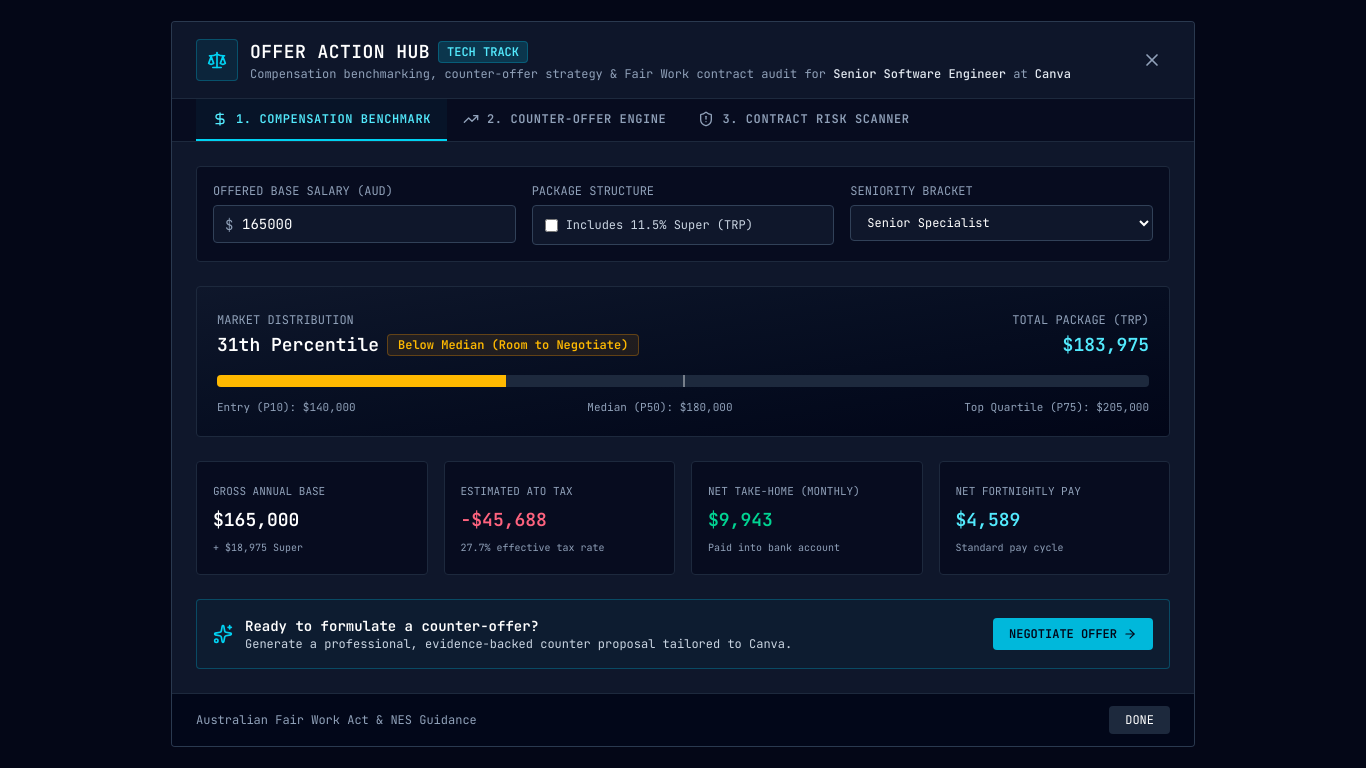
it: OfferActionHubModal Component › allows switching to Contract Risk Scanner and scanning contract clauses
Click tab: 3. CONTRACT RISK SCANNER
What coordinates should you click on to do the following:
click the button "3. CONTRACT RISK SCANNER"
I would click on:
 (804, 120)
Its box is [682,99,926,141].
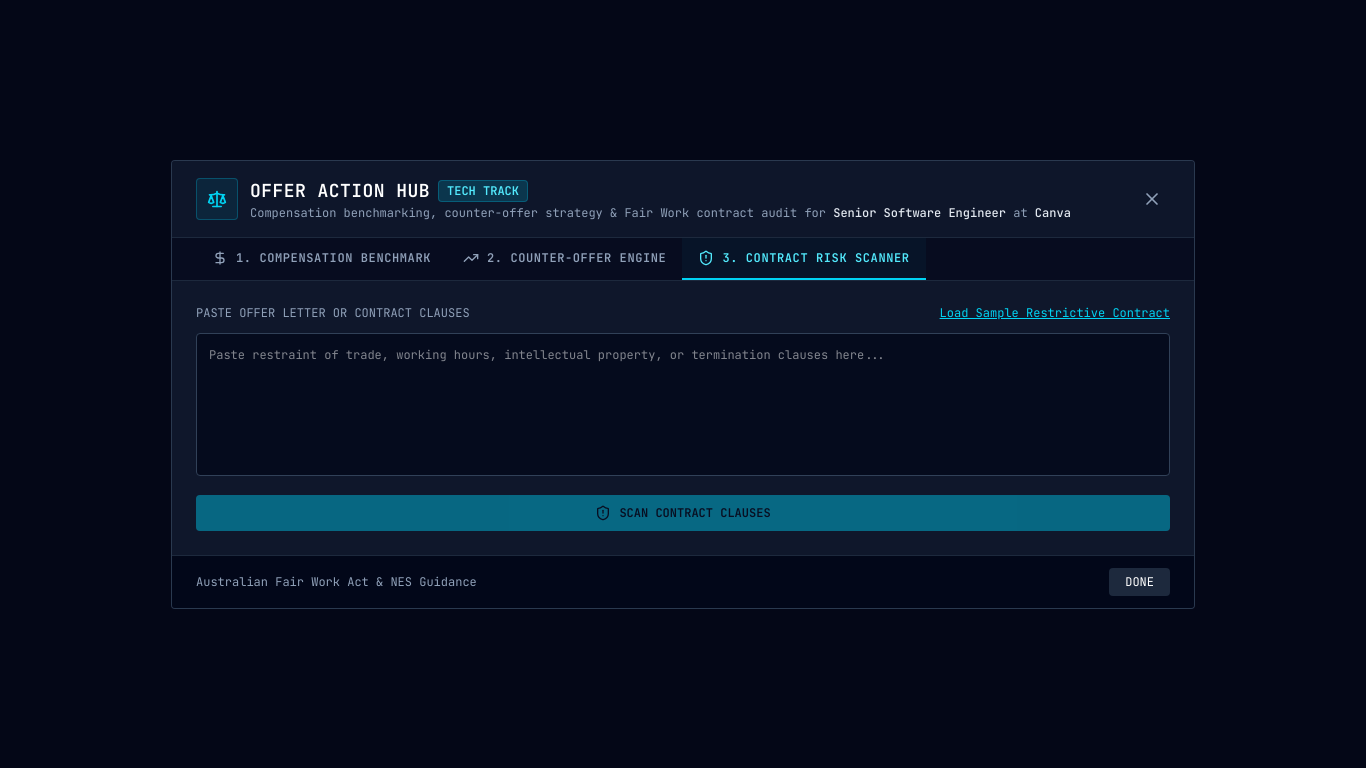
Expected: the button "Load Sample Restrictive Contract" is shown
Load sample contract text (which automatically triggers scan)
What coordinates should you click on to do the following:
click the button "Load Sample Restrictive Contract"
I would click on:
 (1055, 312)
Its box is [940,304,1170,320].
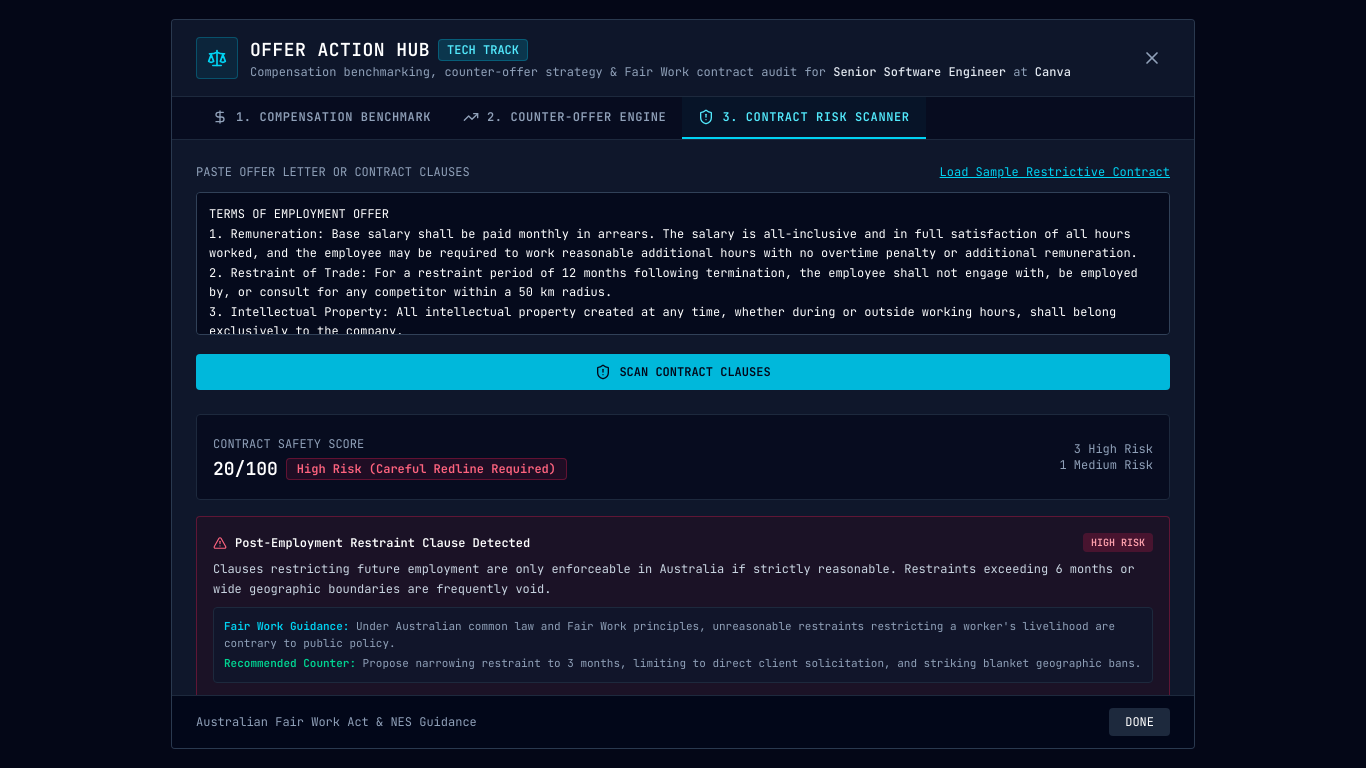
Expected: the text "Contract Safety Score" is shown, [213,436,364,452]
Expected: the text "Post-Employment Restraint Clause Detected" is shown, [213,535,530,551]
